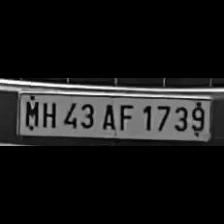1: (136, 101, 153, 131)
3: (76, 100, 96, 128), (170, 102, 188, 132)
4: (60, 98, 78, 128)
7: (152, 102, 170, 132)
9: (188, 100, 206, 134)
A: (97, 100, 117, 130)
F: (115, 102, 135, 131)
H: (38, 97, 57, 128)
M: (22, 97, 40, 129)
